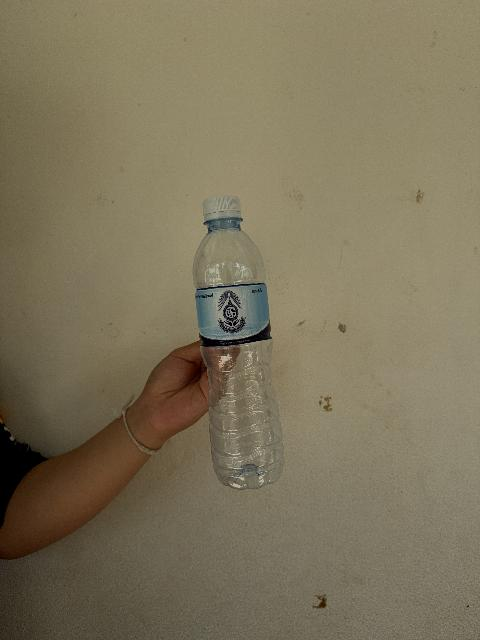bottle: (192, 197, 282, 489)
